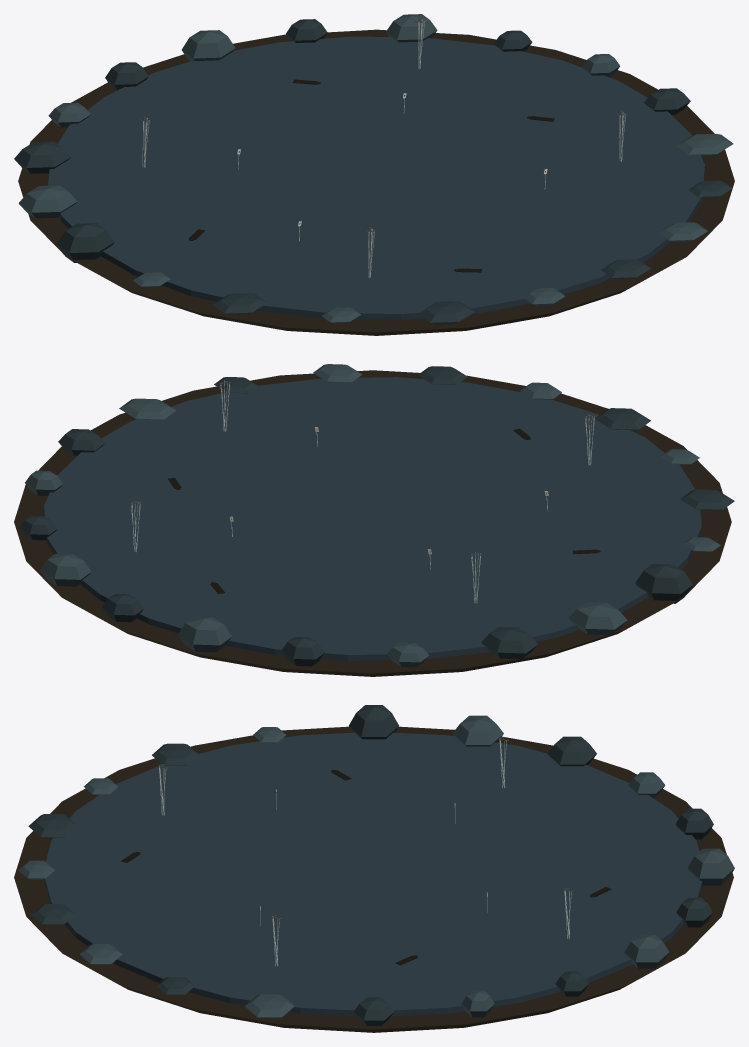
Rendered from s3_arena_b23.glb.
3 views of the same model, one above another, from view 1: azimuth 30°, elevation 25°; view 2: azimuth 150°, elevation 25°; view 3: azimuth 270°, elevation 25° (orthographic).
Parts seen in each view (by area): view 1: s3_arena_b23; view 2: s3_arena_b23; view 3: s3_arena_b23.
Boxes of the visible parts, bbox=[...] form: s3_arena_b23: bbox=[14, 14, 734, 335]; s3_arena_b23: bbox=[14, 364, 734, 676]; s3_arena_b23: bbox=[14, 705, 734, 1032].
Bounding box in the file's own units: 44.62 × 4.42 × 44.46.
